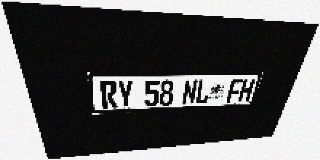5: (145, 80, 160, 106)
8: (159, 80, 175, 106)
F: (226, 79, 244, 103)
H: (238, 79, 255, 102)
L: (195, 79, 212, 104)
N: (182, 79, 198, 105)
R: (100, 81, 118, 108)
Y: (117, 80, 133, 108)
